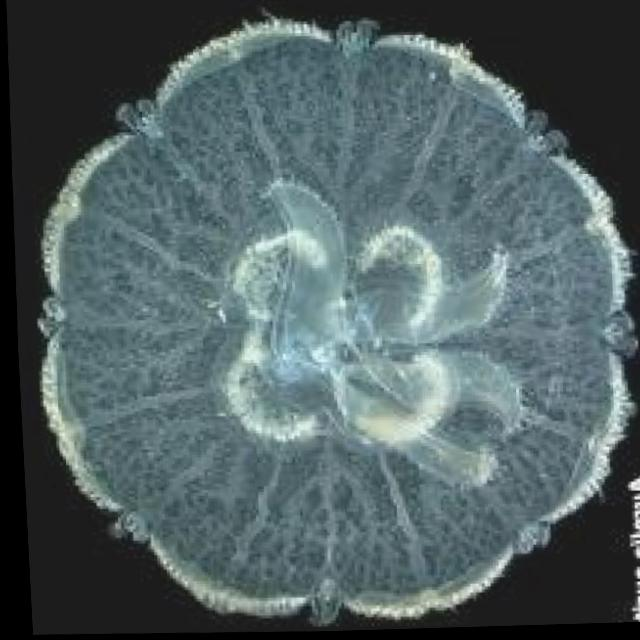Box-jellyfish: (13, 1, 640, 636)
